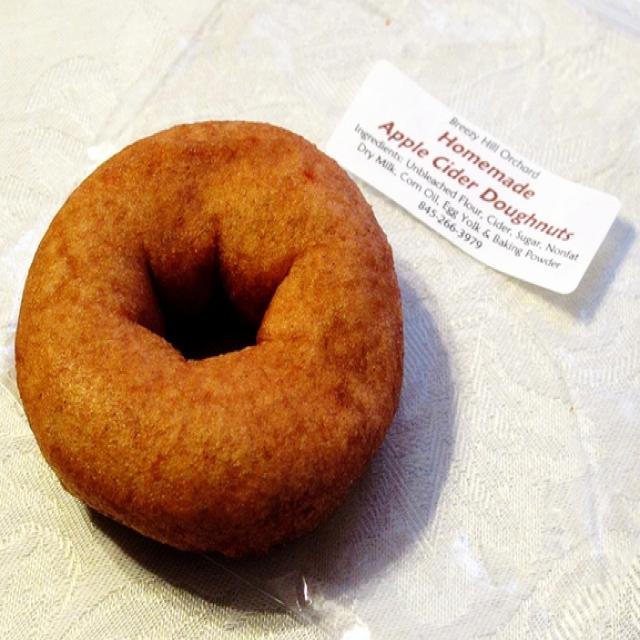炸货点心: (21, 68, 429, 578)
